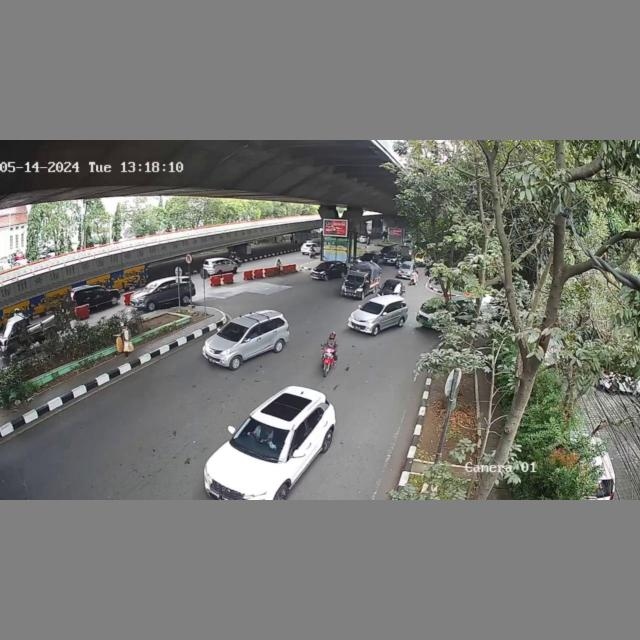windshield: (230, 416, 290, 461), (217, 323, 248, 341)
